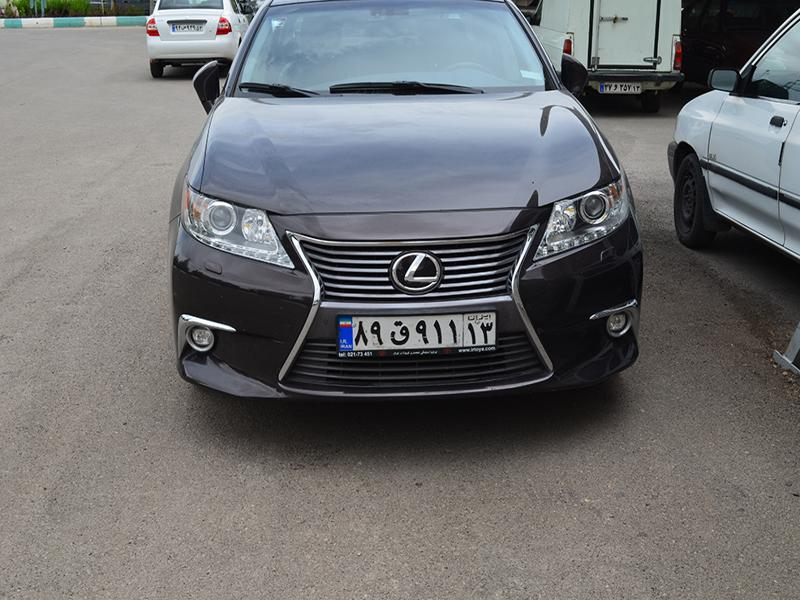Plate: (340, 315, 499, 354)
